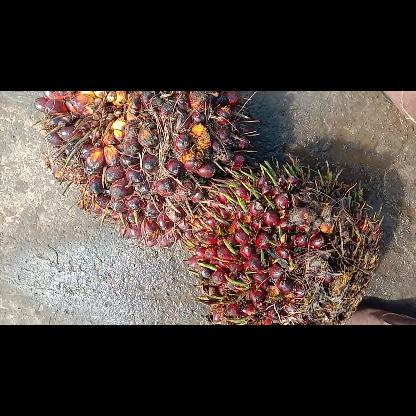Kurang masak: (183, 154, 383, 324)
TBS masak: (34, 90, 258, 246)
